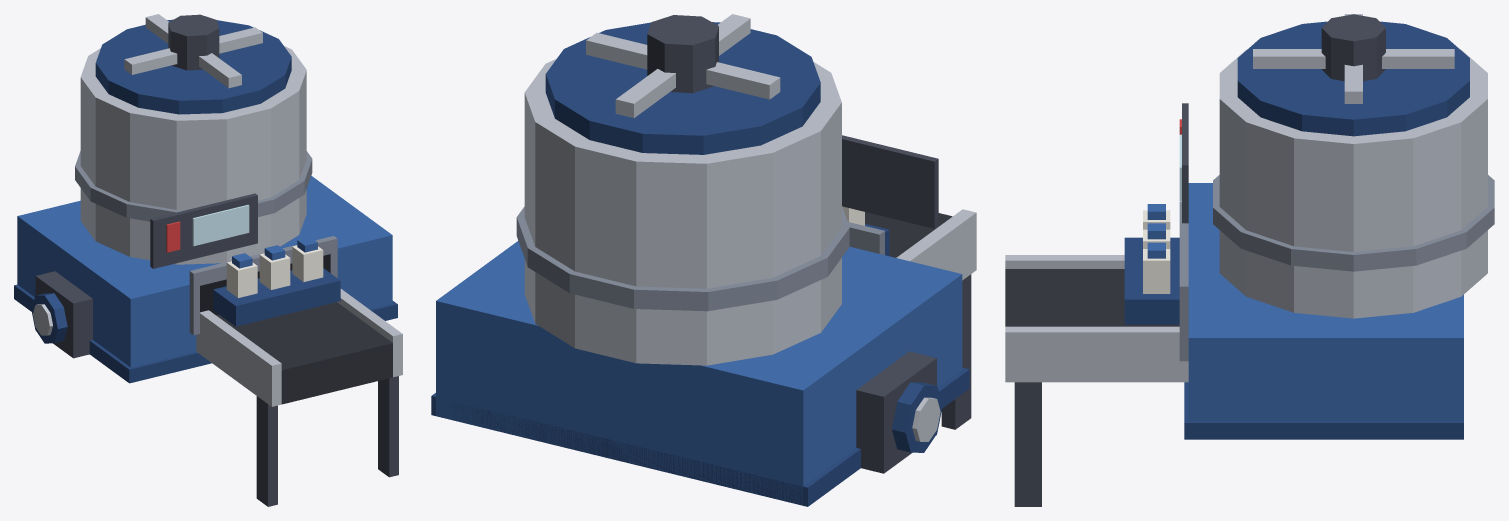
The model's file is milk-vat-left.glb.
3 views of the same model, side by side, from view 1: azimuth 30°, elevation 25°; view 2: azimuth 150°, elevation 25°; view 3: azimuth 270°, elevation 25° (orthographic). The views are drawn at different scales.
Parts seen in each view (by area): view 1: milk-vat-left, spin-up; view 2: milk-vat-left, spin-up; view 3: milk-vat-left, spin-up.
Boxes of the visible parts, x1=… form: milk-vat-left: x1=14, y1=14, x2=402, y2=506; spin-up: x1=124, y1=14, x2=262, y2=88; milk-vat-left: x1=431, y1=15, x2=976, y2=506; spin-up: x1=586, y1=14, x2=780, y2=117; milk-vat-left: x1=1005, y1=14, x2=1494, y2=506; spin-up: x1=1253, y1=14, x2=1454, y2=103.
Bounding box in the file's own units: 0.91 × 1.06 × 1.07.
2 materials, 2 textured.
